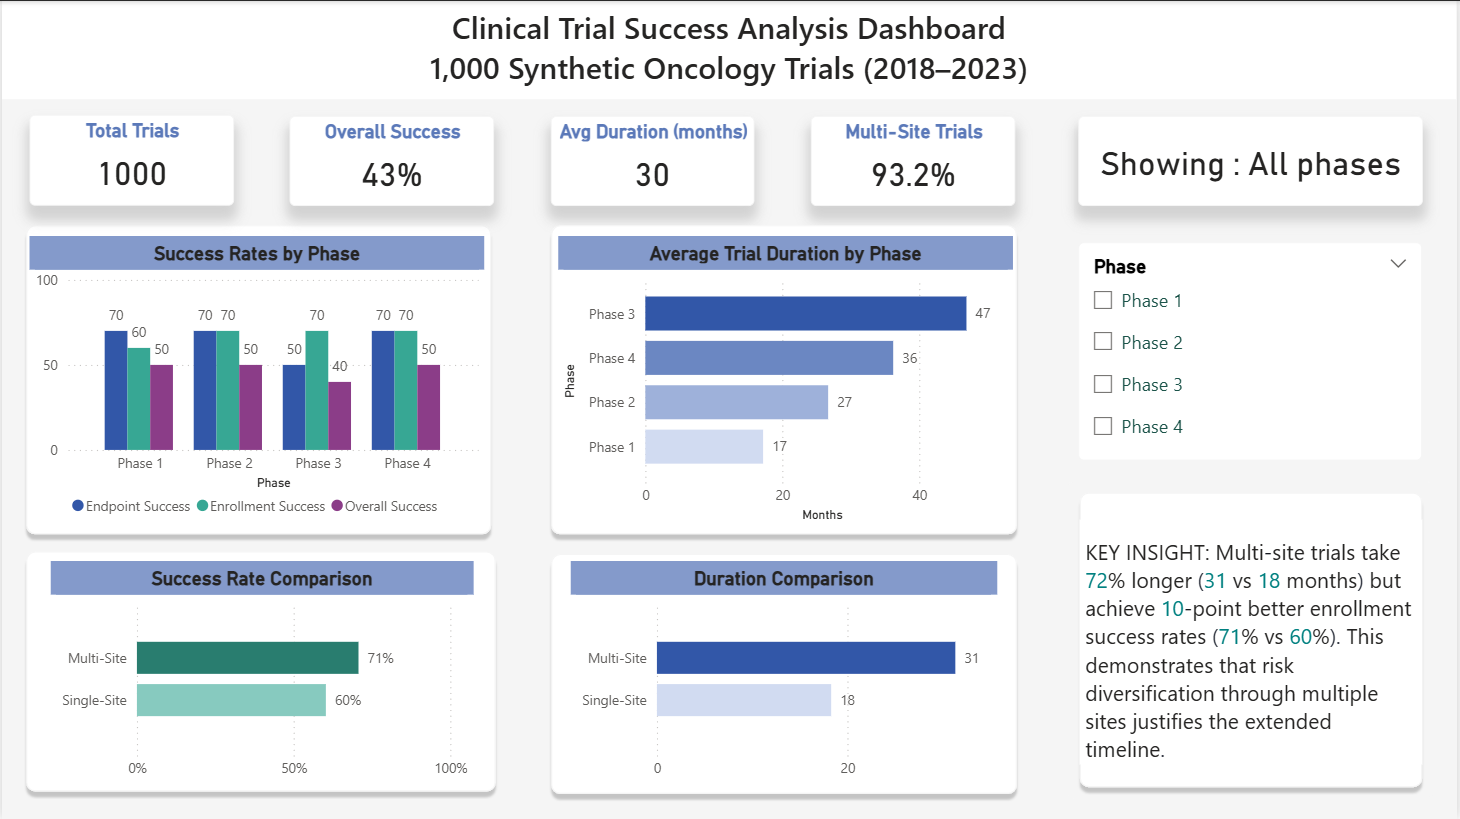

The dashboard page shown, as its layout file describes it:
{"tool":"powerbi","page":{"name":"Overview","canvas":[1280,720],"ordinal":0},"visuals":[{"type":"shape","box":[14,190.2,423,285.9],"z":0},{"type":"textbox","box":[0,0,1279.1,86.4],"z":2000},{"type":"card","title":"Total Trials","fields":{"Values":["CountNonNull(clinical_trials_processed.trial_id)"]},"box":[24.2,100,180,80],"z":3000},{"type":"card","title":"Overall Success","fields":{"Values":["clinical_trials_processed.Overall success %"]},"box":[253.4,101.2,180.3,79.2],"z":4000},{"type":"card","title":"Avg Duration (months)","fields":{"Values":["Avg(clinical_trials_processed.duration_months)"]},"box":[483,101.2,179.2,79.2],"z":5000},{"type":"card","title":"Multi-Site Trials","fields":{"Values":["clinical_trials_processed.Multi-Site %"]},"box":[711.4,101.2,180.3,79.2],"z":6000},{"type":"clusteredColumnChart","title":"Success Rates by Phase","fields":{"Category":["summary_by_phase.Phase"],"Y":["Avg(summary_by_phase.Endpoint_Success_Rate)","Avg(summary_by_phase.Enrollment_Success_Rate)","Avg(summary_by_phase.Overall_Success_Rate)"]},"box":[24.5,206.6,400.3,255.6],"z":7000},{"type":"shape","box":[476.2,190.2,423.6,285.9],"z":8000},{"type":"clusteredBarChart","title":"Average Trial Duration by Phase","fields":{"Category":["summary_by_phase.Phase"],"Y":["Avg(summary_by_phase.Avg_Duration_Months)"]},"box":[489,206.6,400.3,255.6],"z":9000},{"type":"shape","box":[14.3,476.7,427,225.1],"z":10000},{"type":"shape","box":[475.6,478.9,423.7,225.1],"z":11000},{"type":"clusteredBarChart","title":"Duration Comparison","fields":{"Category":["clinical_trials_processed.is_multi_site"],"Y":["Avg(clinical_trials_processed.duration_months)"]},"box":[500.3,492.6,375,200.1],"z":12000},{"type":"clusteredBarChart","title":"Success Rate Comparison","fields":{"Category":["clinical_trials_processed.is_multi_site"],"Y":["clinical_trials_processed.Enrollment Success Rate"]},"box":[42.9,492.6,371.7,200.1],"z":13000},{"type":"card","title":"Multi-Site Trials","fields":{"Values":["clinical_trials_processed.Selected Phase"]},"box":[946.8,101.5,303.4,79.4],"z":14000},{"type":"slicer","fields":{"Values":["clinical_trials_processed.Phase"]},"box":[946.8,211.9,302.3,192],"z":15000},{"type":"shape","box":[937.9,422.6,321.1,279.2],"z":16000},{"type":"textbox","box":[947.9,456.8,301.2,215.2],"z":17000}]}

Visuals, with their boxes in screenshot pixels (x1, y1, x2, y2), scaled from the page's 1280x720 canvas onto the 1460x819 screenshot:
shape: x1=16, y1=216, x2=498, y2=542
textbox: x1=0, y1=0, x2=1459, y2=98
"Total Trials" card: x1=28, y1=114, x2=233, y2=205
"Overall Success" card: x1=289, y1=115, x2=495, y2=205
"Avg Duration (months)" card: x1=551, y1=115, x2=755, y2=205
"Multi-Site Trials" card: x1=811, y1=115, x2=1017, y2=205
"Success Rates by Phase" clusteredColumnChart: x1=28, y1=235, x2=485, y2=526
shape: x1=543, y1=216, x2=1026, y2=542
"Average Trial Duration by Phase" clusteredBarChart: x1=558, y1=235, x2=1014, y2=526
shape: x1=16, y1=542, x2=503, y2=798
shape: x1=542, y1=545, x2=1026, y2=801
"Duration Comparison" clusteredBarChart: x1=571, y1=560, x2=998, y2=788
"Success Rate Comparison" clusteredBarChart: x1=49, y1=560, x2=473, y2=788
"Multi-Site Trials" card: x1=1080, y1=115, x2=1426, y2=206
slicer - clinical_trials_processed.Phase: x1=1080, y1=241, x2=1425, y2=459
shape: x1=1070, y1=481, x2=1436, y2=798
textbox: x1=1081, y1=520, x2=1425, y2=764
